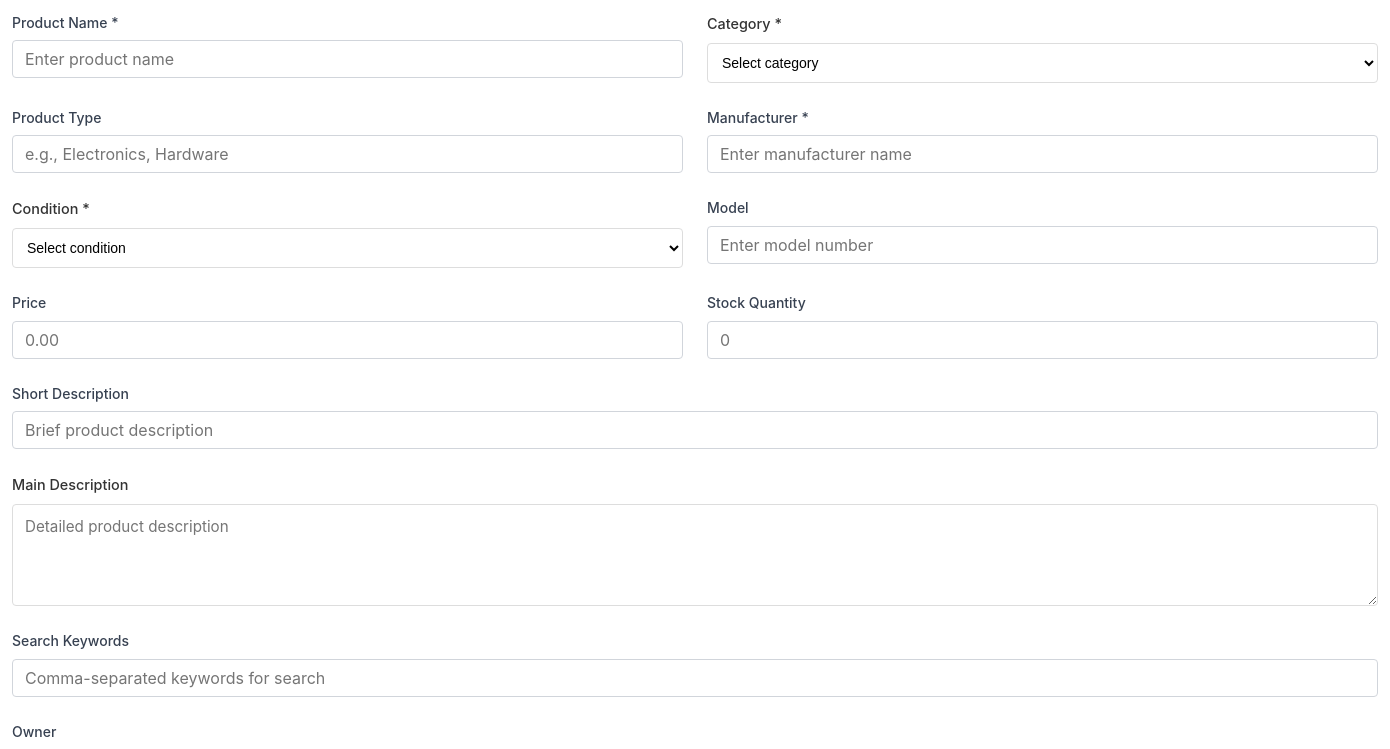
Scenario: ProductForm - Real-time Validation › should validate condition selection on blur
# Focus and blur without selecting
Click the dropdown labelled "Condition *" at (348, 248), box [12,228,683,268]
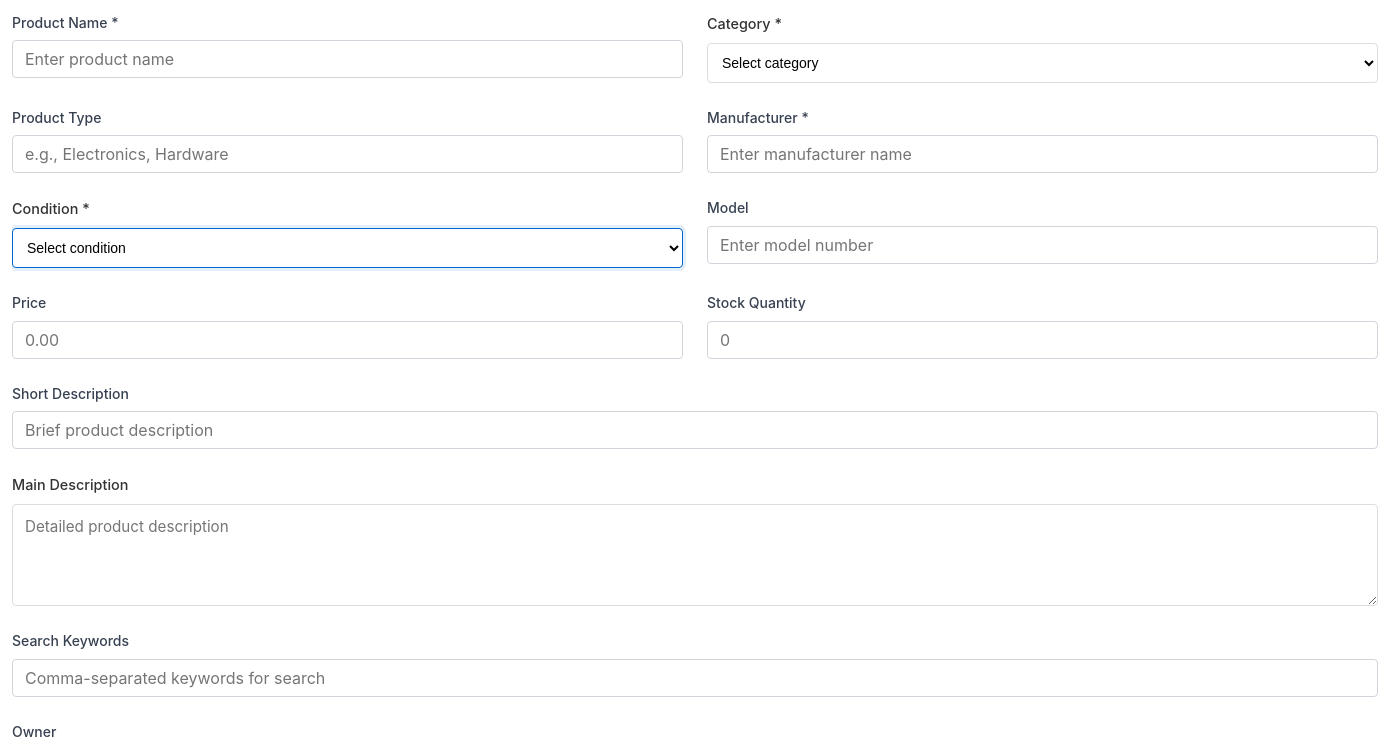
Press Tab
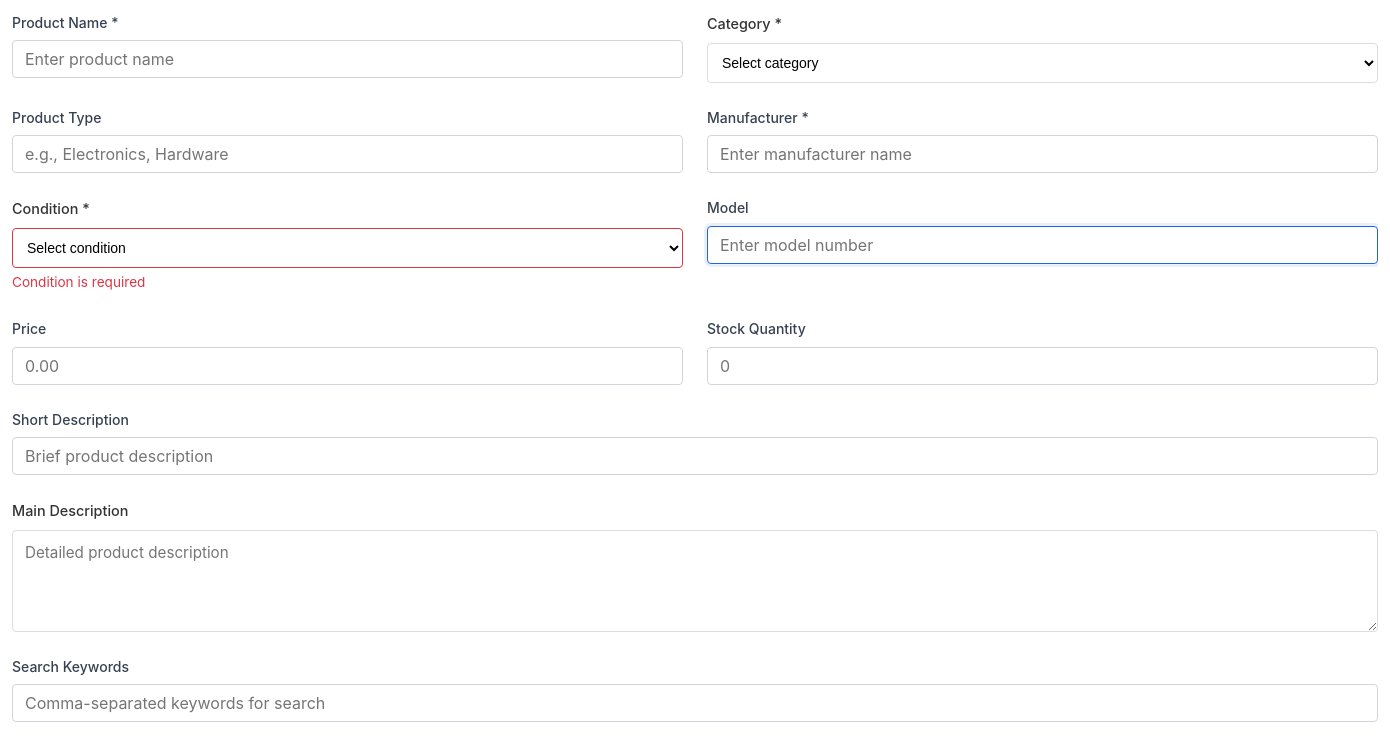
Now the text "Condition is required" is shown, box [12,274,145,290]
